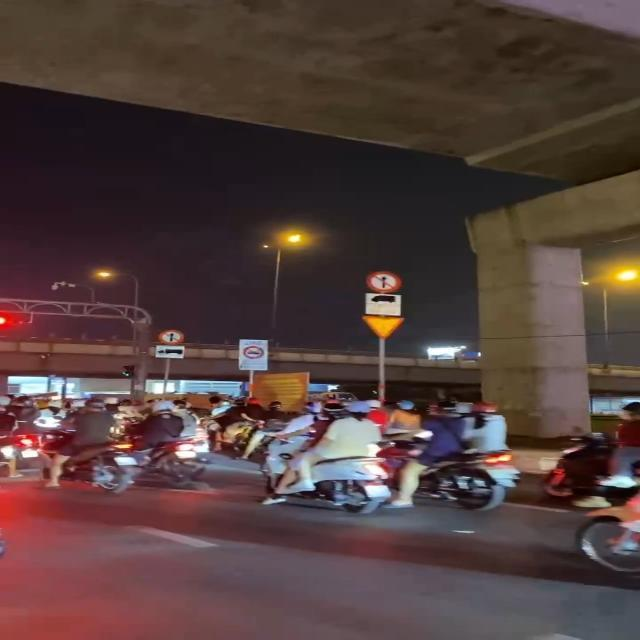136-cam-di-thang: (366, 270, 402, 292), (159, 330, 184, 346)
208-giao-nhau-voi-duong-uu-tien: (362, 316, 404, 339)
